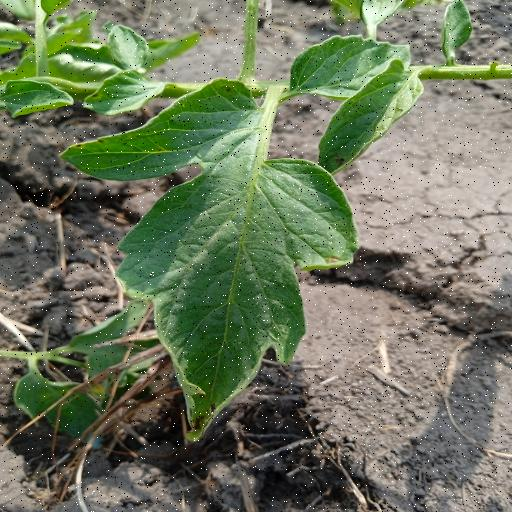Tomato_Mildiou: (56, 80, 358, 435)
